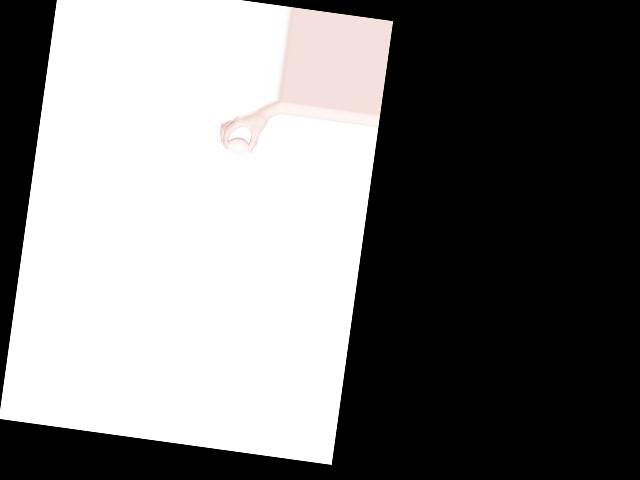egg: (226, 136, 250, 155)
